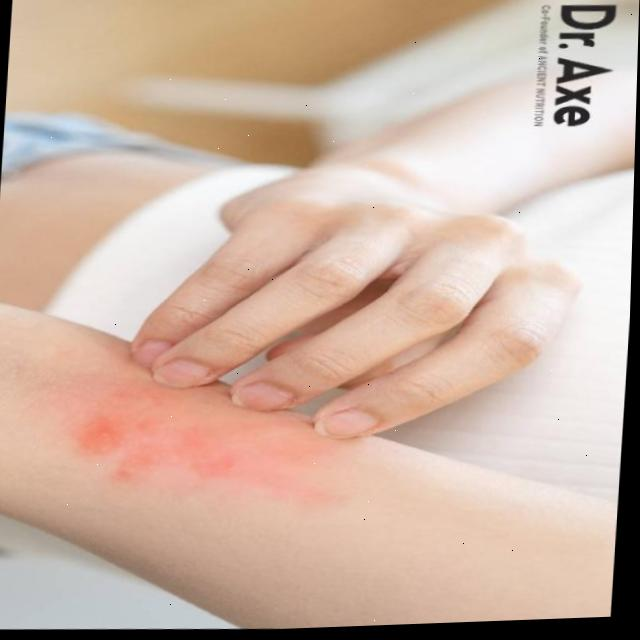Eczema: (64, 372, 339, 506)
